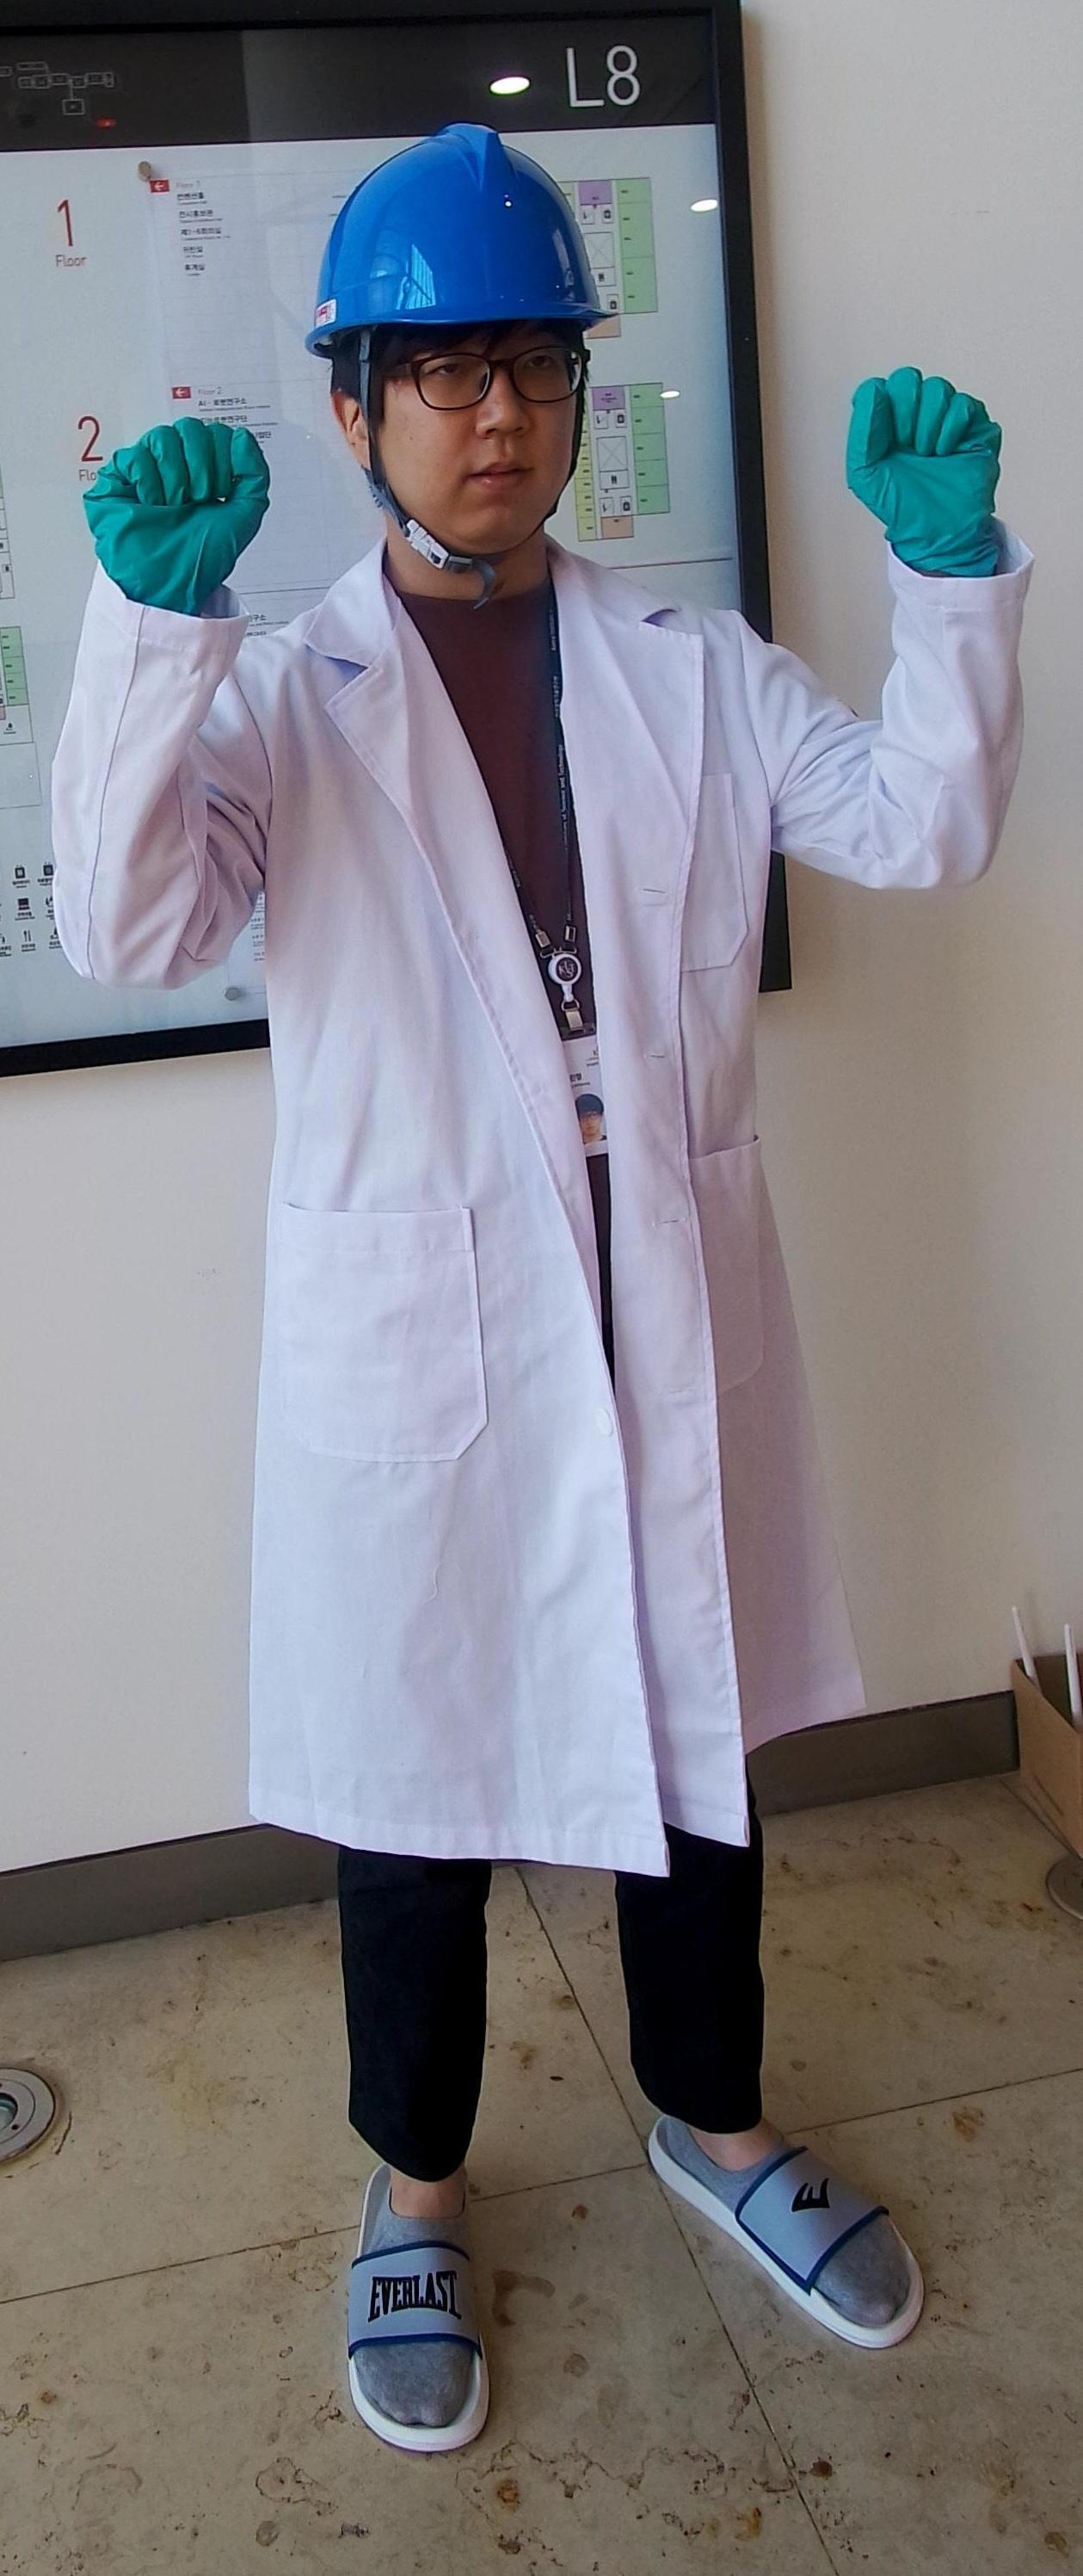lab_coat: (247, 590, 792, 1865)
